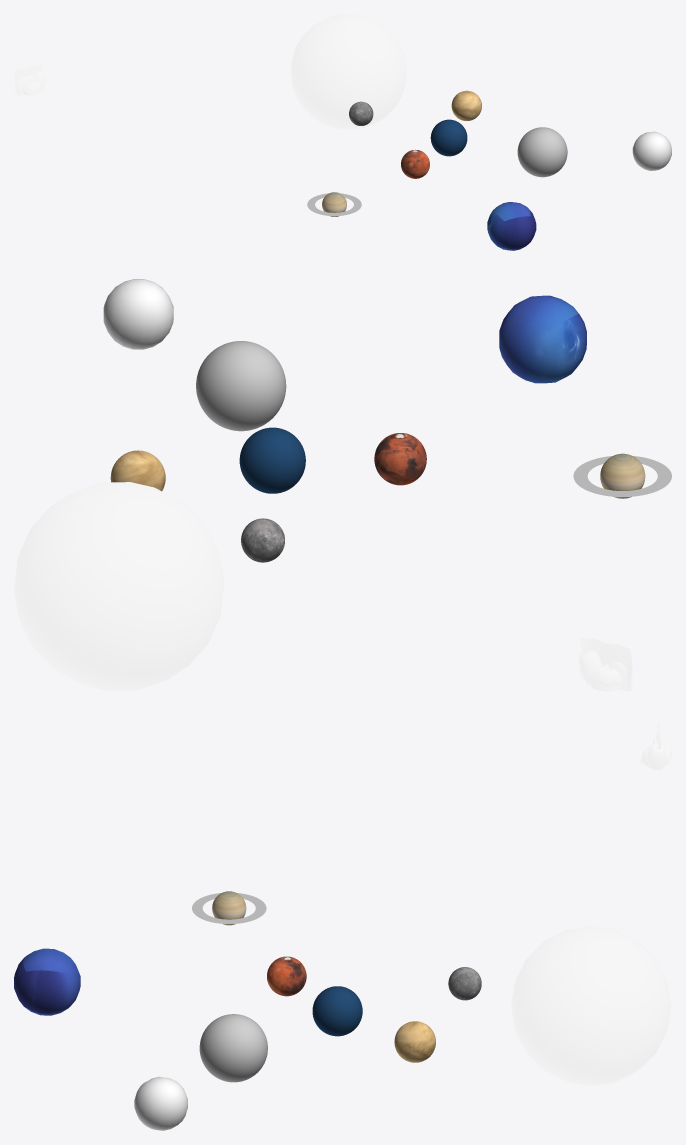
The picture shows the model from 3 angles, top to bottom: view 1: azimuth 30°, elevation 25°; view 2: azimuth 150°, elevation 25°; view 3: azimuth 270°, elevation 25°; orthographic projection. The views are drawn at different scales.
Parts seen in each view (by area): view 1: Corona, Jupiter, ActualNeptune, Atmos, Earth.002, Saturn, Venus, Mars, Prominence_01, Mercury; view 2: Corona, Jupiter, ActualNeptune, Atmos, Earth.002, Saturn, Mars, Venus, Mercury, Flare, Prominence_01; view 3: Corona, Jupiter, ActualNeptune, Atmos, Earth.002, Saturn, Venus, Mars, Mercury.
Part boxes in pixels (bbox=[...]): Corona: bbox=[290, 14, 406, 129]; Jupiter: bbox=[517, 127, 567, 177]; ActualNeptune: bbox=[487, 202, 536, 250]; Atmos: bbox=[632, 131, 671, 170]; Earth.002: bbox=[430, 119, 467, 156]; Saturn: bbox=[307, 192, 361, 216]; Venus: bbox=[451, 90, 481, 120]; Mars: bbox=[401, 149, 429, 178]; Prominence_01: bbox=[16, 71, 45, 95]; Mercury: bbox=[349, 101, 373, 125]; Corona: bbox=[14, 482, 224, 690]; Jupiter: bbox=[196, 341, 286, 431]; ActualNeptune: bbox=[499, 295, 586, 383]; Atmos: bbox=[103, 279, 173, 349]; Earth.002: bbox=[239, 427, 305, 493]; Saturn: bbox=[573, 453, 671, 498]; Mars: bbox=[374, 433, 426, 485]; Venus: bbox=[110, 450, 165, 491]; Mercury: bbox=[241, 518, 284, 562]; Flare: bbox=[579, 638, 632, 691]; Prominence_01: bbox=[579, 650, 632, 691]; Corona: bbox=[511, 926, 671, 1085]; Jupiter: bbox=[199, 1014, 267, 1082]; ActualNeptune: bbox=[14, 948, 80, 1015]; Atmos: bbox=[134, 1076, 187, 1130]; Earth.002: bbox=[312, 986, 362, 1036]; Saturn: bbox=[192, 891, 266, 925]; Venus: bbox=[394, 1021, 435, 1062]; Mars: bbox=[267, 956, 306, 996]; Mercury: bbox=[448, 967, 481, 1000].
Size of the model in its own units: 38.16 by 8.63 by 33.63.
